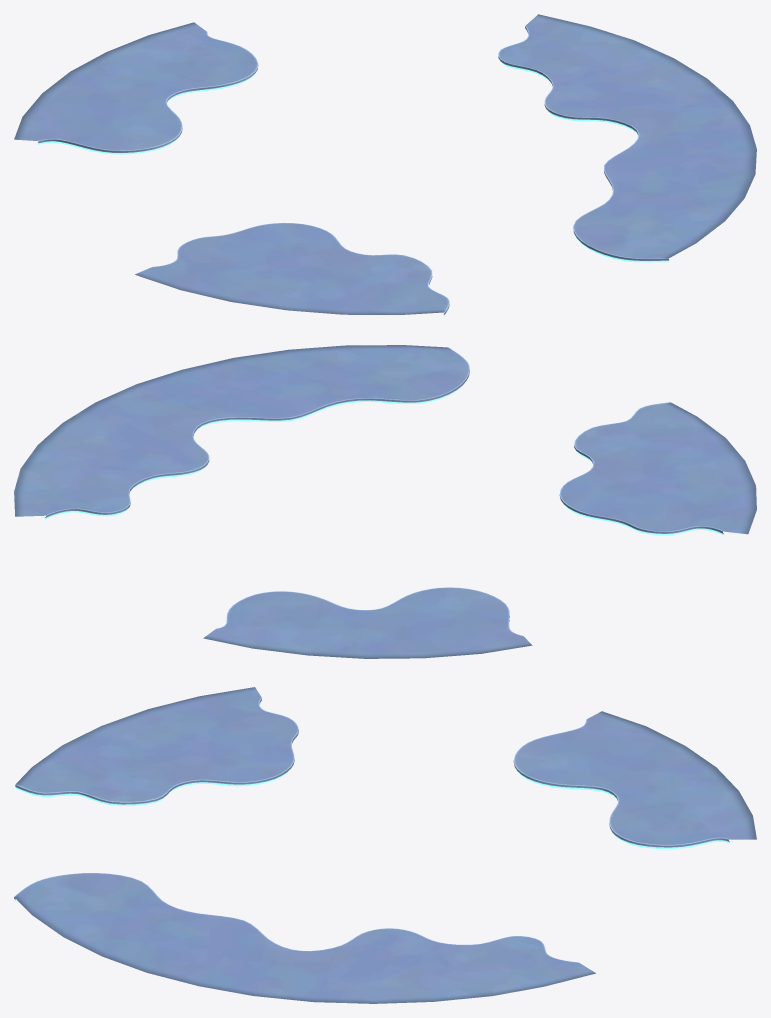
Rendered from obj_floor01.gltf.
The picture shows the model from 3 angles, top to bottom: view 1: azimuth 30°, elevation 25°; view 2: azimuth 150°, elevation 25°; view 3: azimuth 270°, elevation 25°; orthographic projection. The views are drawn at different scales.
Parts seen in each view (by area): view 1: obj_floor01; view 2: obj_floor01; view 3: obj_floor01.
Part boxes in pixels (bbox=[...]): obj_floor01: bbox=[14, 14, 756, 315]; obj_floor01: bbox=[14, 345, 756, 658]; obj_floor01: bbox=[14, 687, 756, 1003].
Size of what is drawn, in the model's own units: 22.67 by 0.15 by 22.46.
2 materials, 2 textured.
